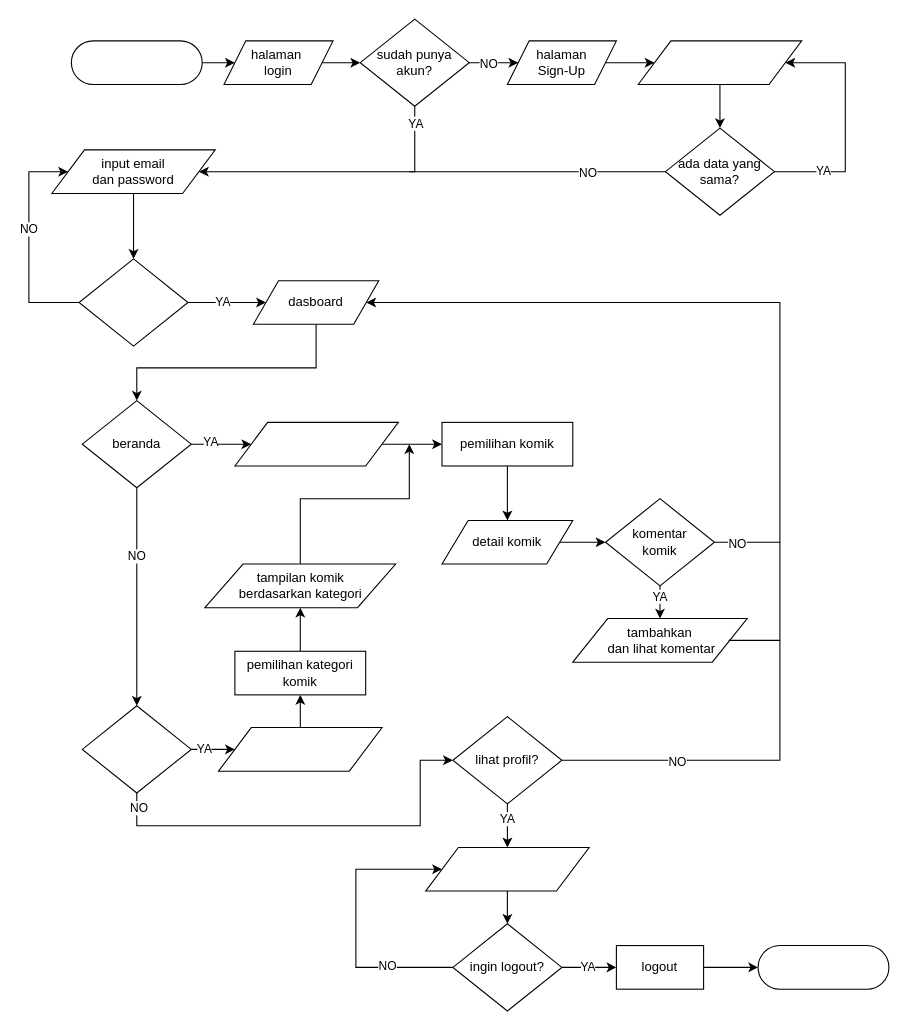
Some shapes in this 908 by 1030 pixel diagram are drawn without their labels. The box of each missing label's shape, as (x1, y1, x2, y2) in pixels:
data benar?: (78, 258, 188, 346)
input nama, email dan password: (637, 40, 802, 84)
lihat kategori?: (81, 705, 191, 793)
mulai: (70, 40, 202, 84)
selesai: (757, 944, 889, 989)
tampilan halaman profil: (425, 846, 589, 891)
tampilan kategori komik: (217, 726, 382, 771)
tampilan semua komik: (234, 421, 398, 466)
